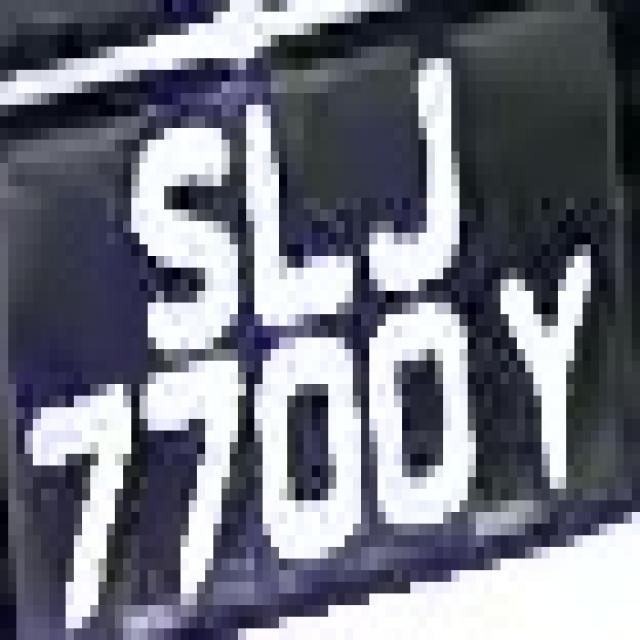0: (230, 302, 386, 594), (344, 291, 500, 570)
7: (8, 360, 147, 640), (115, 384, 262, 605)
J: (336, 70, 542, 302)
L: (214, 81, 378, 326)
S: (98, 93, 238, 384)
Y: (460, 198, 616, 489)
